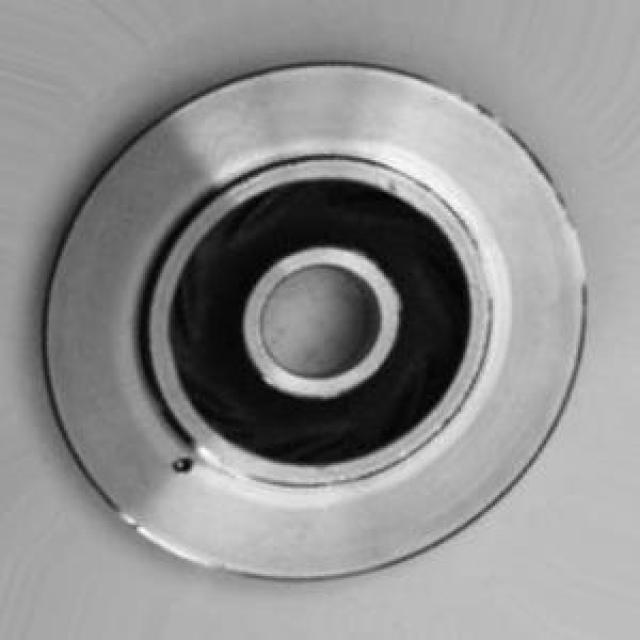Defect: (164, 449, 208, 477)
